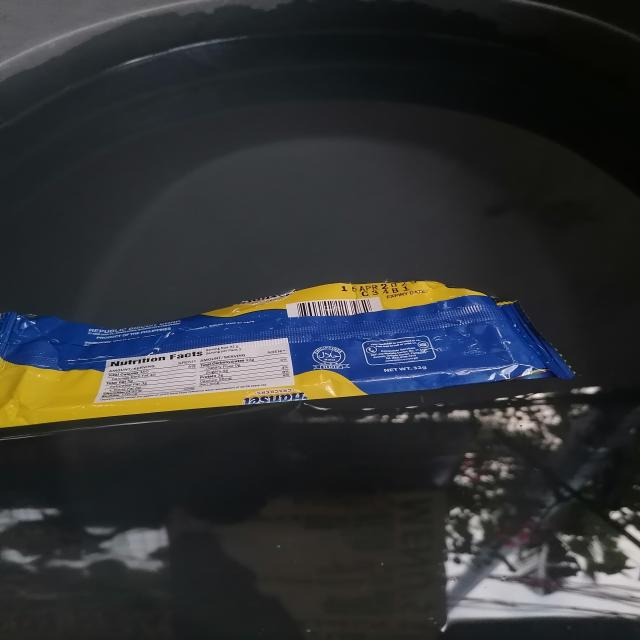Plastic Wrapper: (0, 235, 610, 453)
